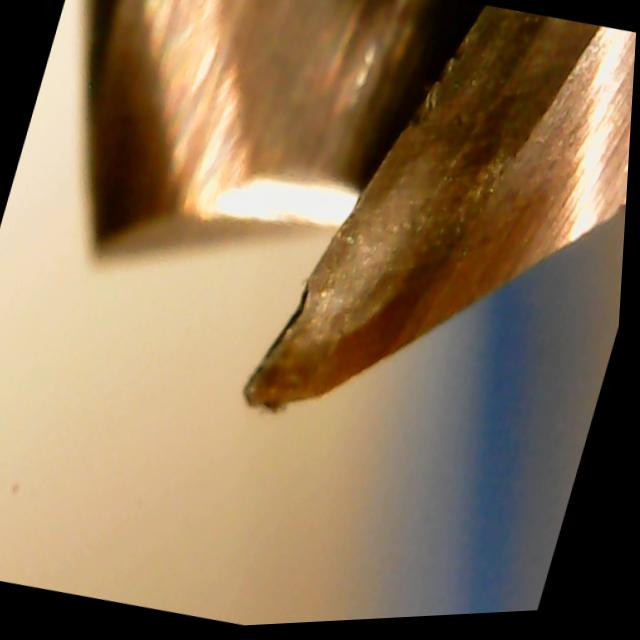Tool-wear-class-1: (218, 174, 464, 458)
